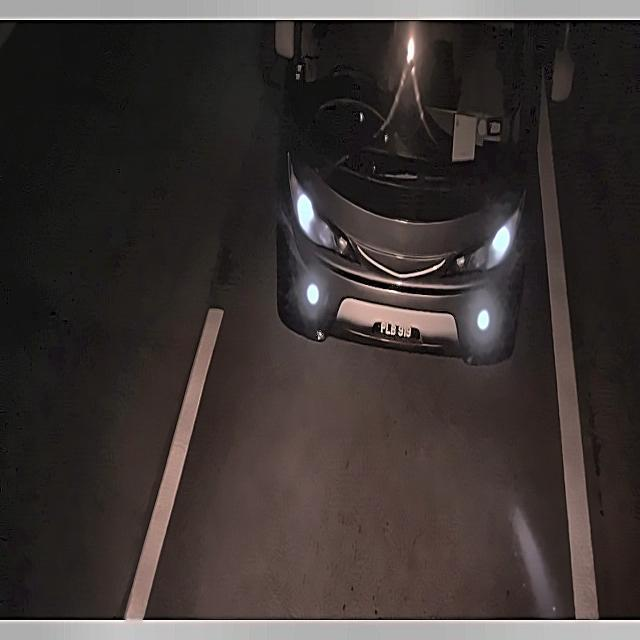car: (369, 308, 428, 349)
